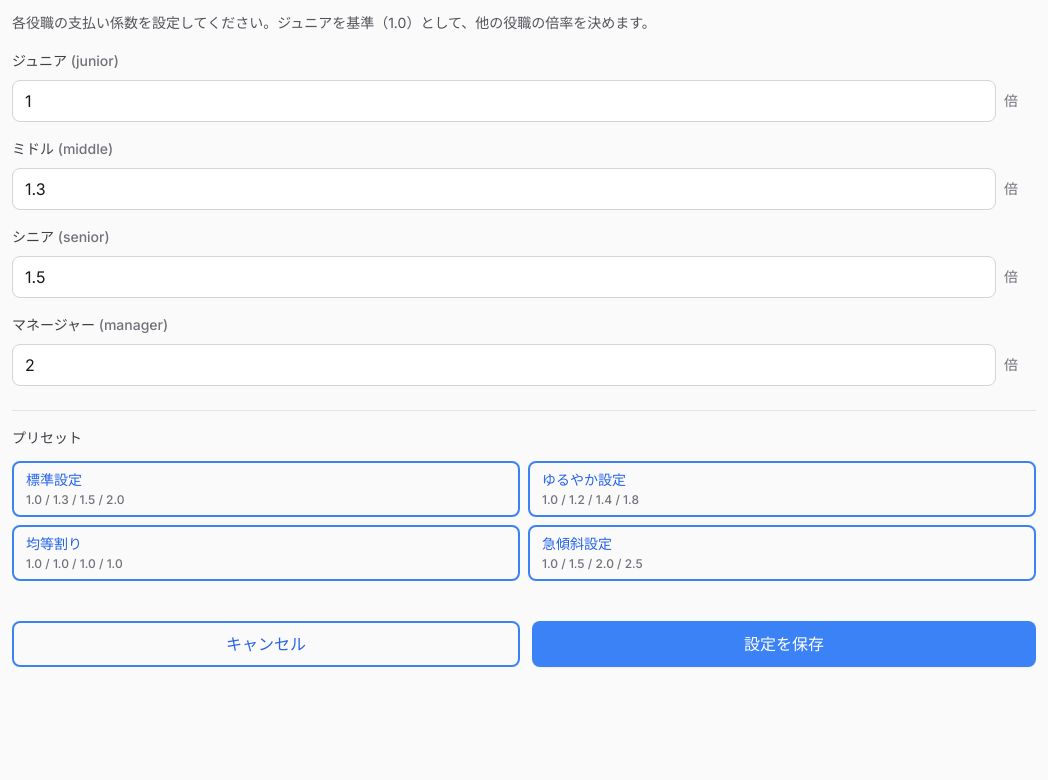
Scenario: RoleSettingsForm › 均等割りプリセットが動作する
Click the button "均等割り 1.0 / 1.0 / 1.0 / 1.0".
click(54, 544)  # box left=12, top=525, right=520, bottom=581
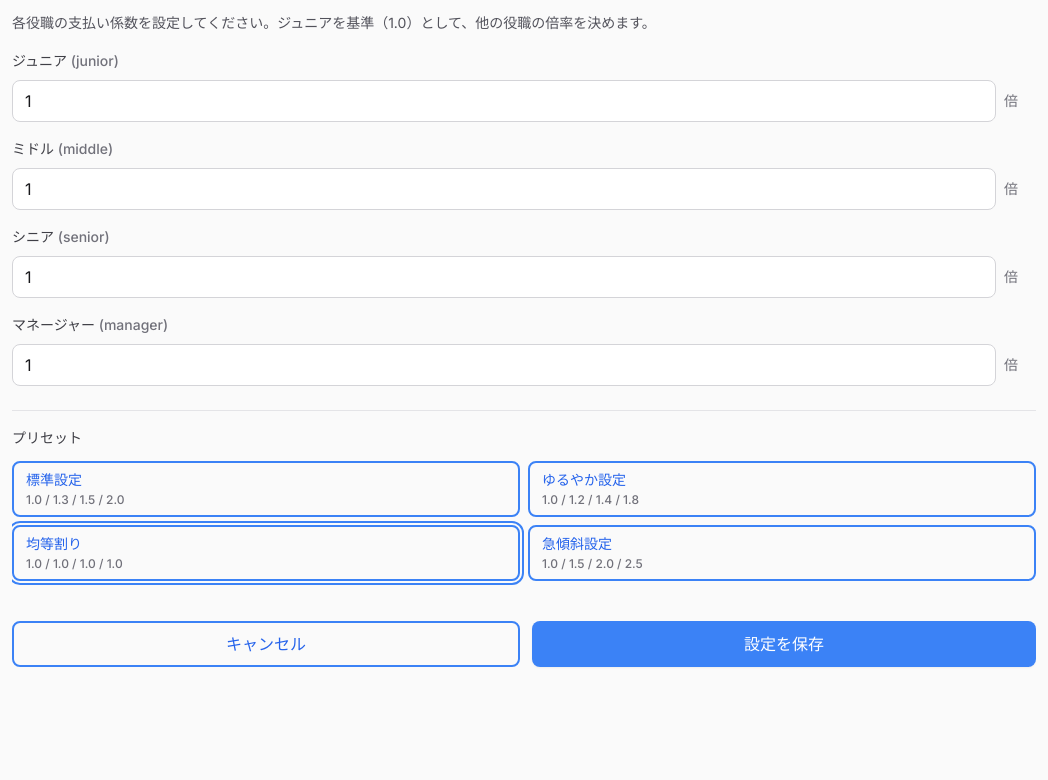
Now the number field labelled "ミドル (middle)" holds "1", box left=12, top=168, right=996, bottom=210
Now the number field labelled "シニア (senior)" holds "1", box left=12, top=256, right=996, bottom=298
Now the number field labelled "マネージャー (manager)" holds "1", box left=12, top=344, right=996, bottom=386
